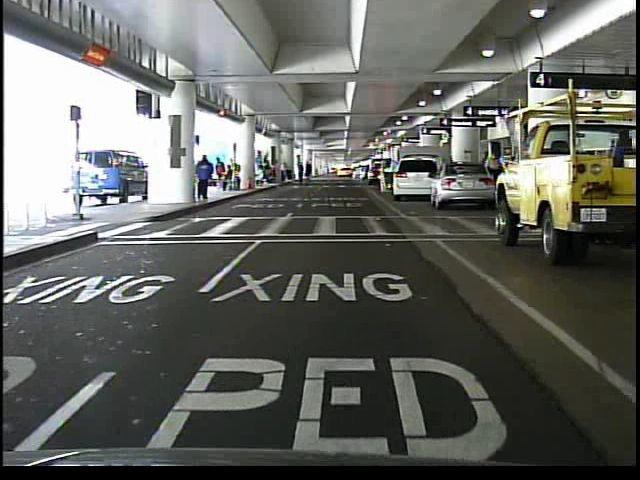person: (193, 152, 215, 204)
